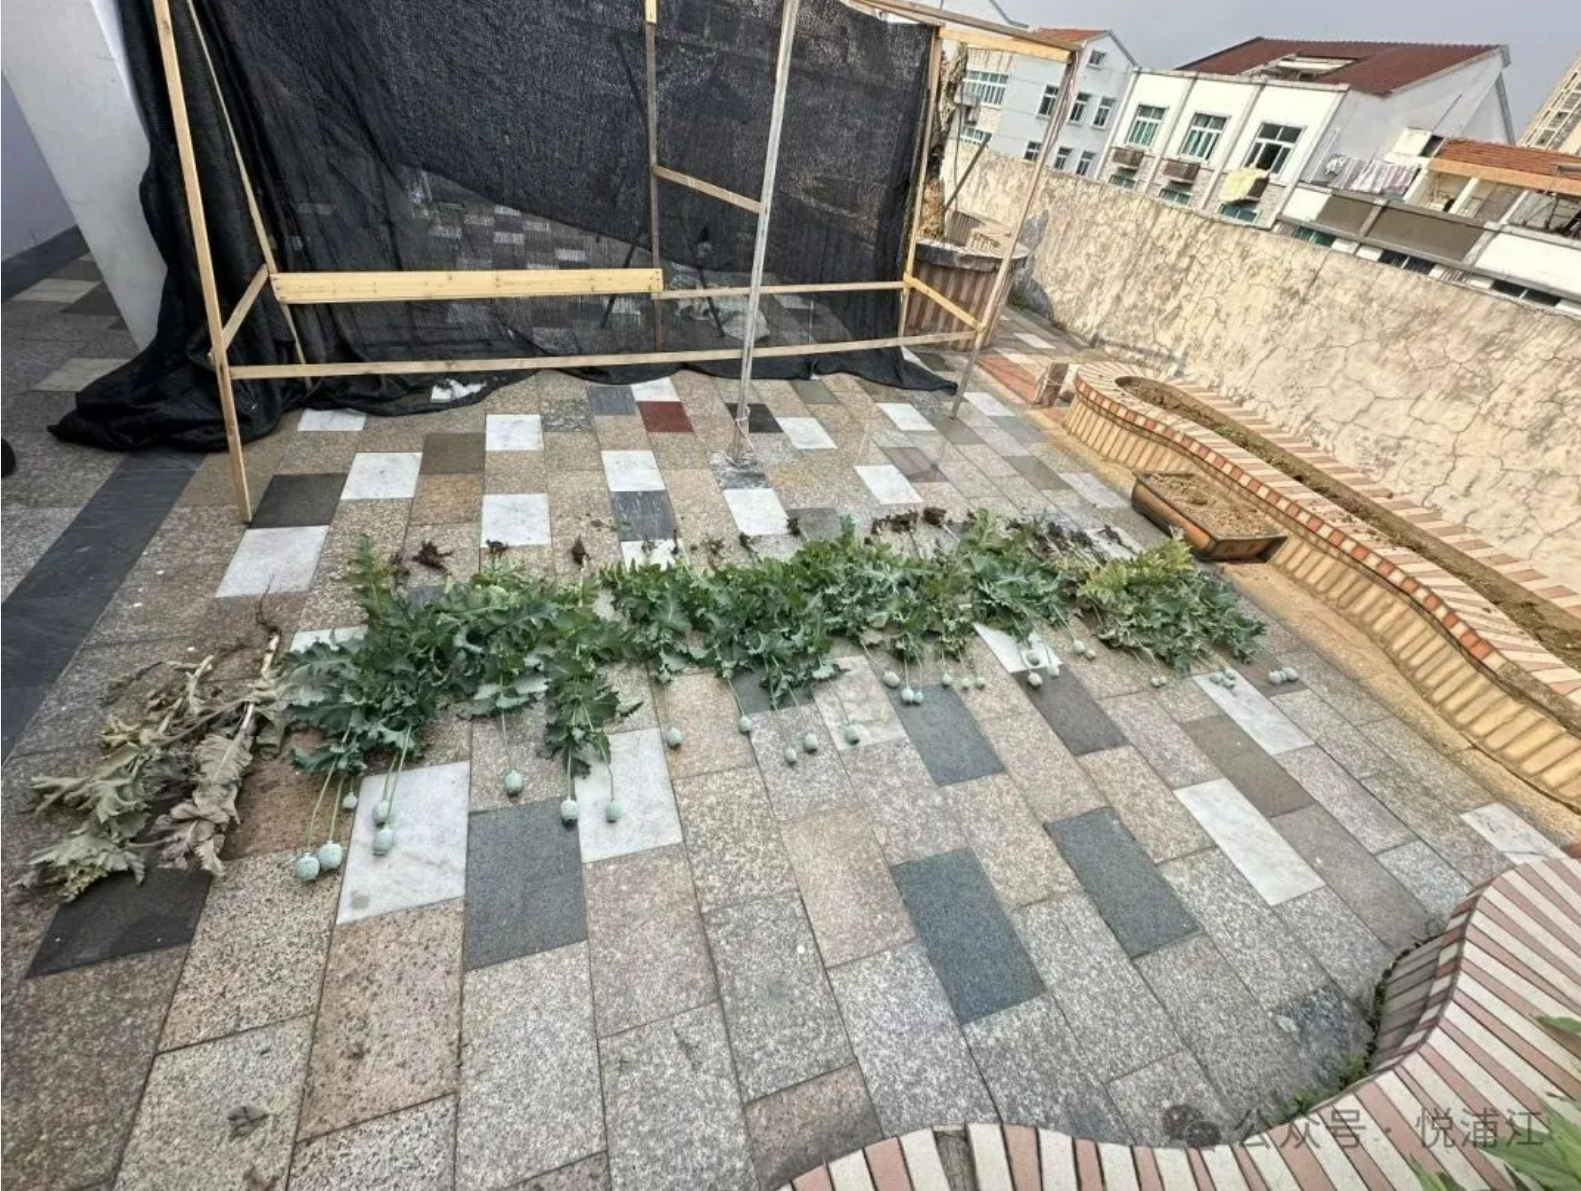Poppy: (248, 507, 1312, 877)
